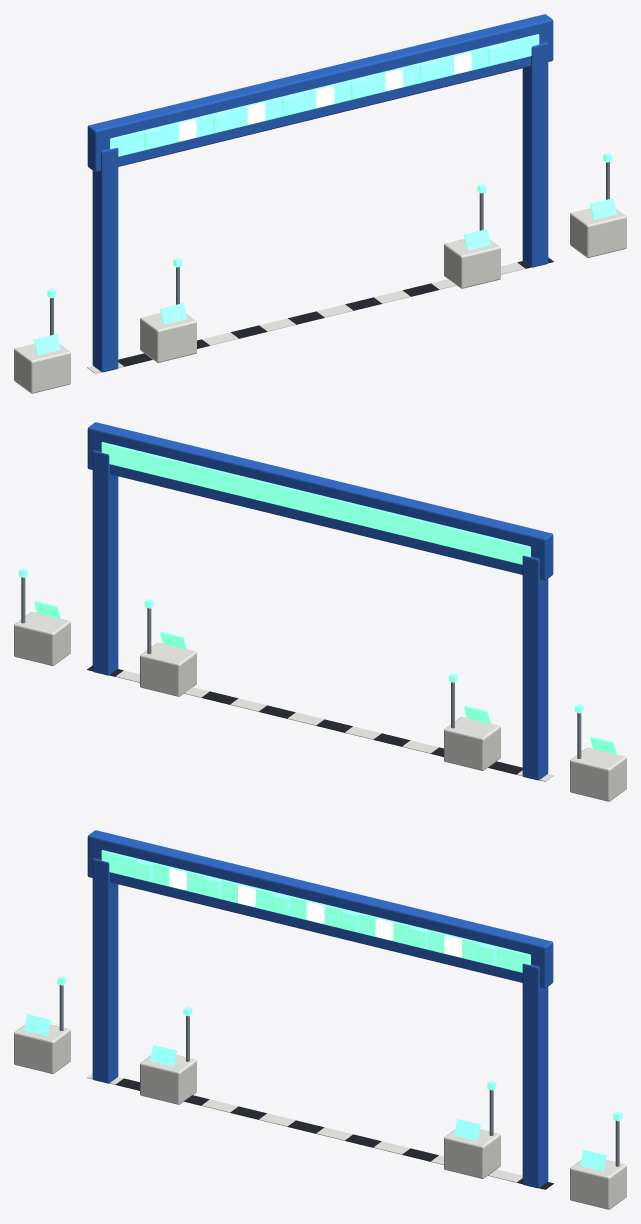
File: checkout-arch.glb
The picture shows the model from 3 angles, top to bottom: view 1: azimuth 30°, elevation 25°; view 2: azimuth 150°, elevation 25°; view 3: azimuth 330°, elevation 25°; orthographic projection.
Visible parts, largest first — view 1: checkout-arch; view 2: checkout-arch; view 3: checkout-arch.
Boxes of the visible parts, x1,y1,x2,y2 form: checkout-arch: [14, 14, 626, 393]; checkout-arch: [14, 422, 626, 801]; checkout-arch: [14, 830, 626, 1209].
Size of the model in its own units: 20.8 by 8.1 by 1.1.
